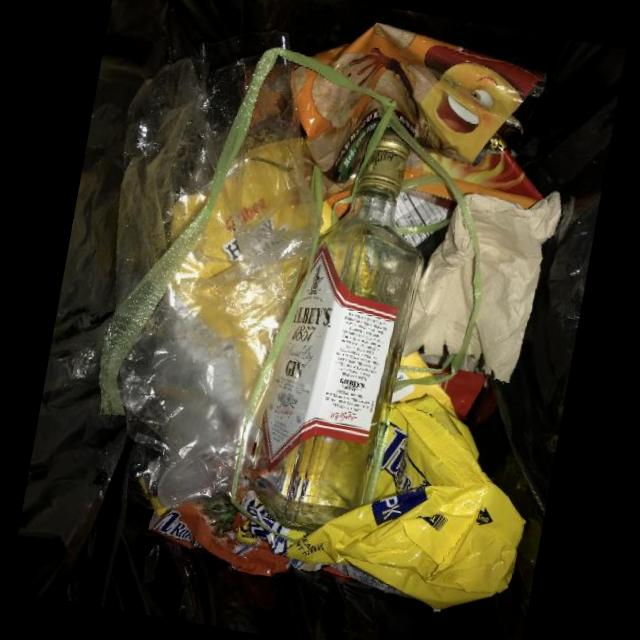bao_bi_thuc_pham: (233, 350, 526, 610), (273, 21, 546, 208), (149, 493, 289, 576)
chai_thuy_tinh: (250, 128, 421, 530)
giay: (402, 190, 561, 381)
tui_ni_long: (99, 43, 367, 458)
